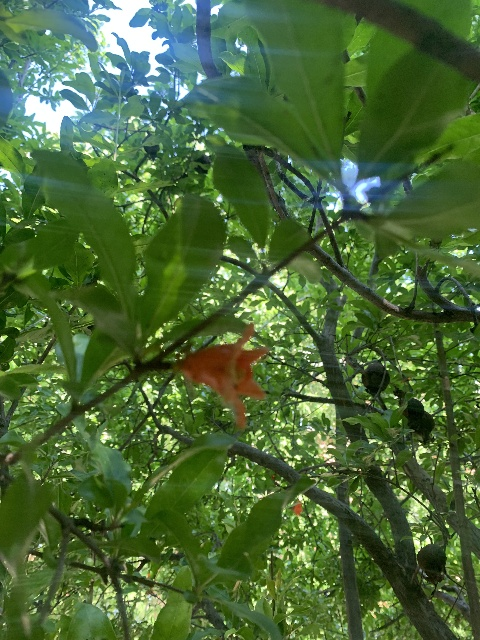flower: (176, 321, 269, 430), (291, 500, 303, 516)
